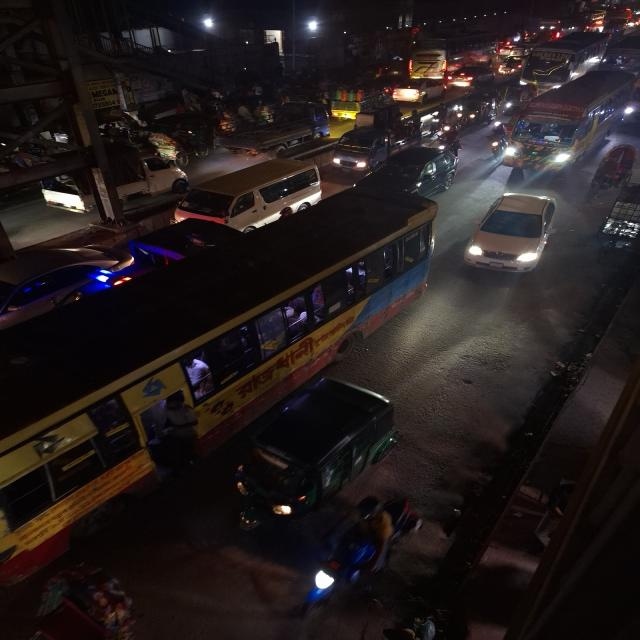bus: (0, 183, 456, 575), (503, 70, 637, 170), (530, 48, 582, 94), (403, 42, 452, 76)
car: (159, 152, 329, 228), (466, 184, 570, 289), (360, 143, 461, 192), (391, 74, 449, 106), (448, 66, 496, 90)
cng: (225, 373, 412, 532), (456, 96, 496, 126)
motorcycle: (308, 499, 422, 618), (439, 108, 465, 138), (489, 122, 505, 156)
pickup_van: (210, 107, 338, 160), (331, 110, 422, 172), (326, 86, 395, 120)
rickshaw: (590, 141, 640, 196), (148, 128, 210, 166)
